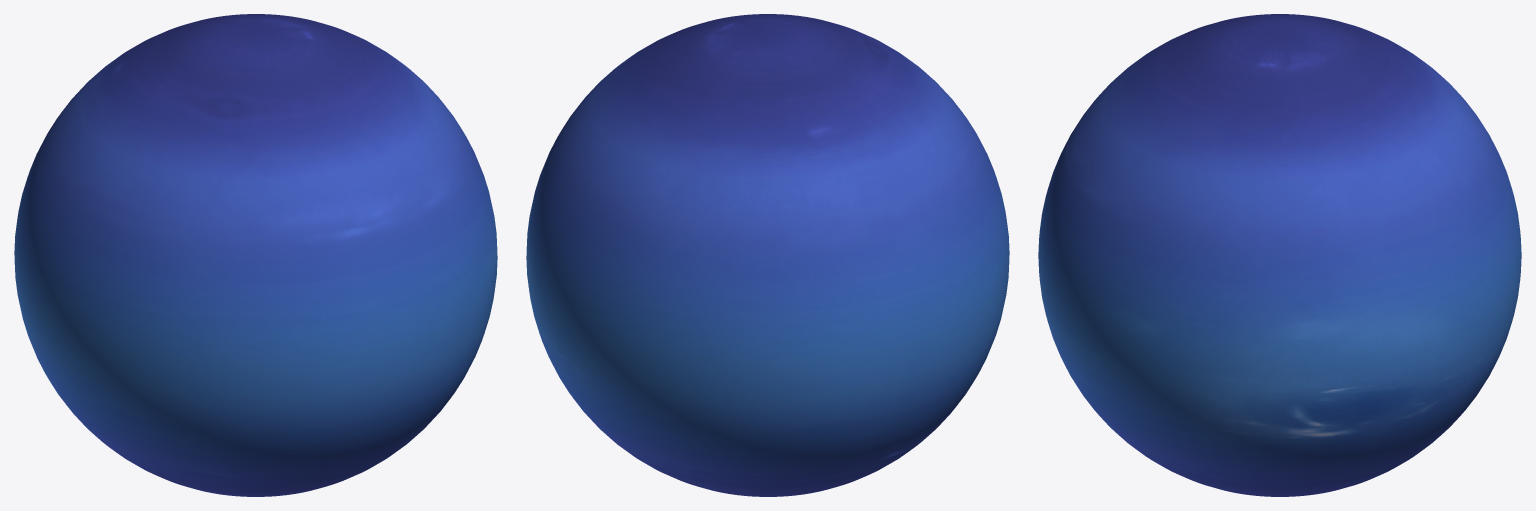
The model's file is Neptune.glb.
3 renders of one model, left to right at view 1: azimuth 30°, elevation 25°; view 2: azimuth 150°, elevation 25°; view 3: azimuth 270°, elevation 25°, orthographic.
Parts seen in each view (by area): view 1: Mars; view 2: Mars; view 3: Mars.
Boxes of the visible parts, x1=… form: Mars: x1=14, y1=14, x2=497, y2=496; Mars: x1=526, y1=14, x2=1009, y2=496; Mars: x1=1038, y1=14, x2=1521, y2=496.
Bounding box in the file's own units: 12.71 × 12.71 × 12.71.
1 material, 1 textured.
